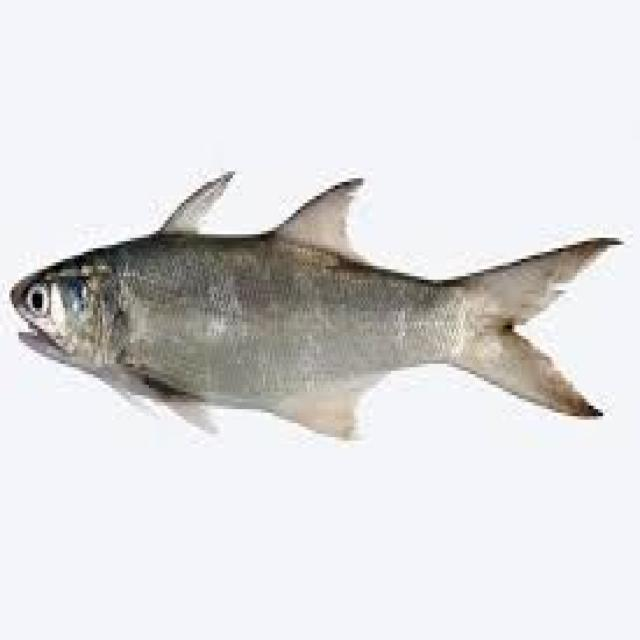Fourfinger-Threadfin: (0, 145, 633, 496)
